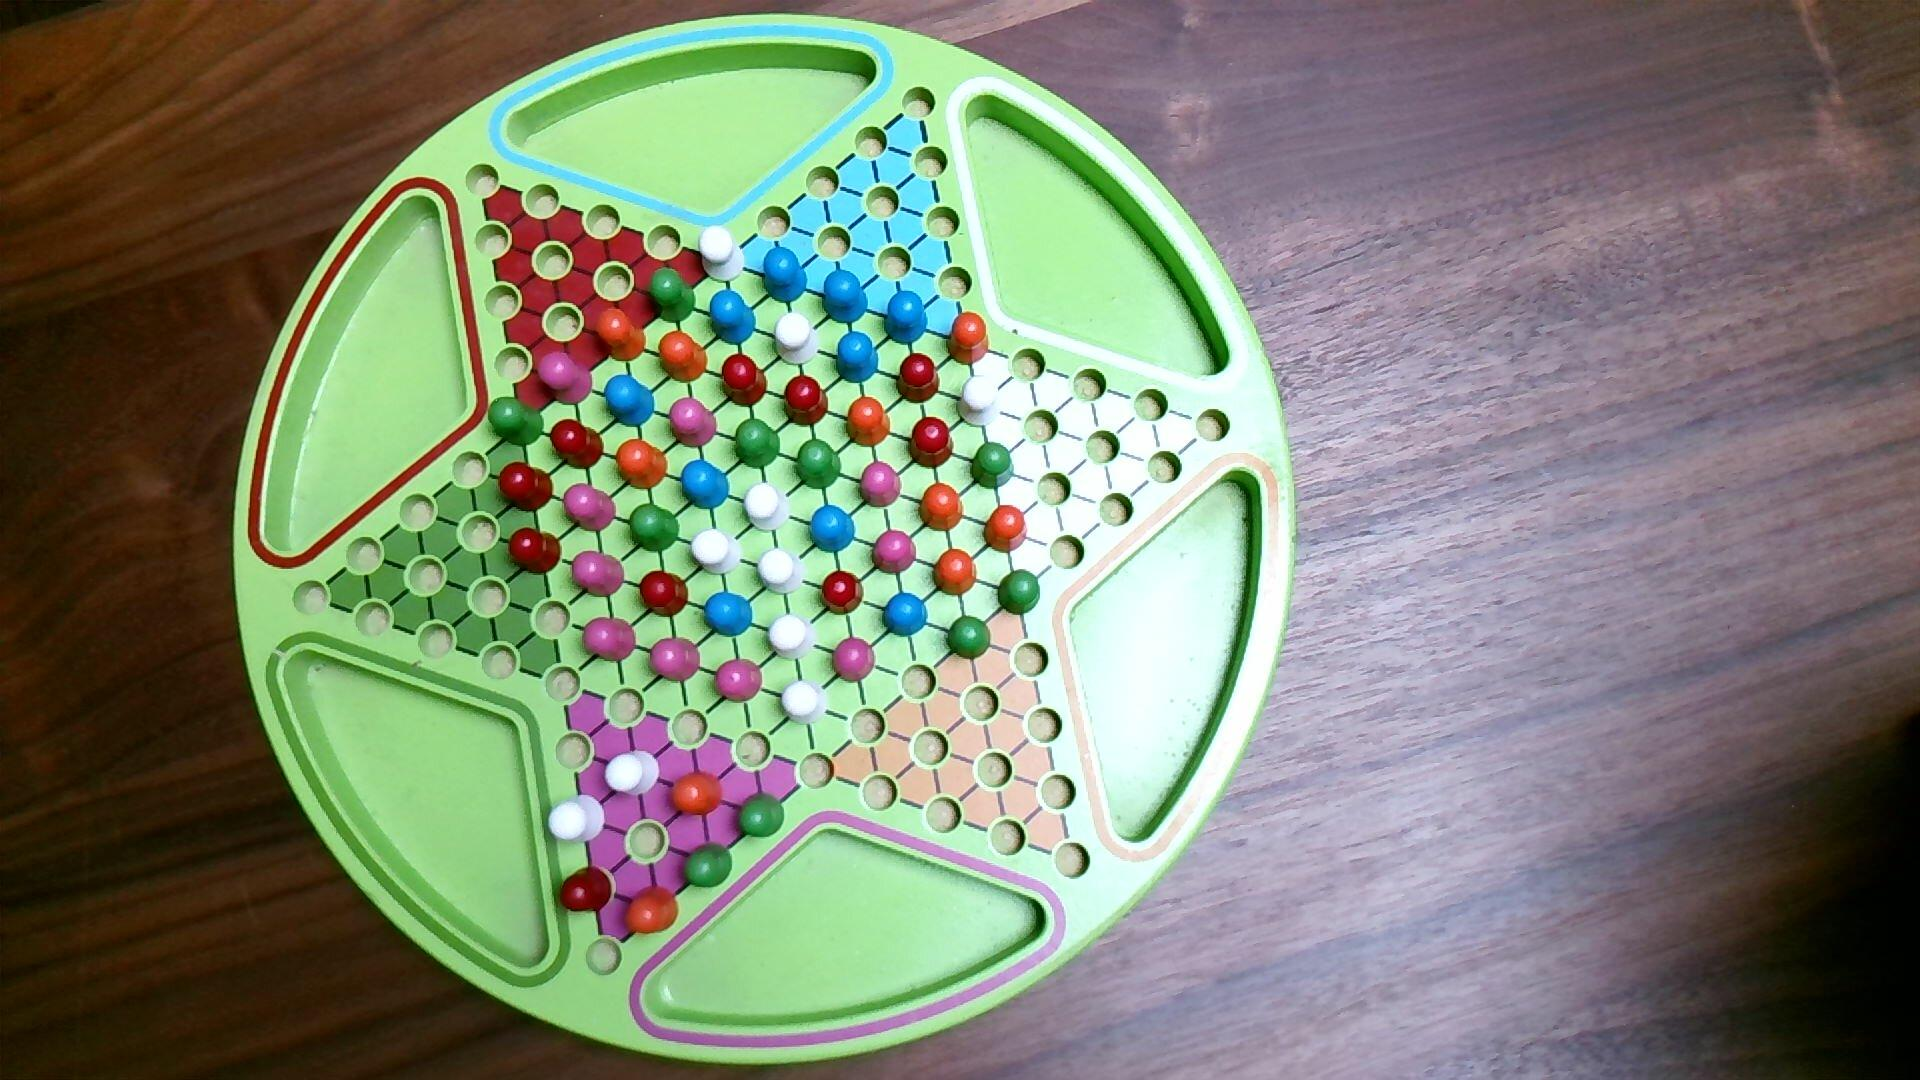B: (601, 373, 657, 431), (708, 287, 758, 348), (678, 458, 732, 513), (822, 268, 872, 327), (761, 247, 810, 306), (702, 589, 756, 641), (833, 328, 881, 386), (806, 504, 857, 556), (882, 290, 930, 347), (882, 589, 930, 640)
G: (487, 396, 547, 450), (646, 264, 699, 326), (626, 501, 680, 555), (794, 436, 843, 493), (737, 789, 787, 843), (735, 415, 782, 472), (682, 843, 736, 891), (971, 440, 1017, 492), (945, 615, 993, 663), (997, 568, 1043, 617)
O: (589, 303, 650, 364), (615, 436, 671, 493), (622, 882, 680, 938), (667, 767, 727, 822), (655, 328, 709, 385), (944, 307, 993, 368), (843, 394, 893, 451), (916, 480, 967, 535), (982, 502, 1030, 556), (932, 547, 980, 599)
R: (497, 459, 556, 516), (556, 862, 616, 916), (549, 418, 607, 472), (506, 526, 564, 578), (907, 415, 957, 472), (721, 352, 770, 409), (640, 568, 691, 621), (782, 373, 829, 429), (894, 352, 942, 406), (820, 568, 866, 617)
R2: (537, 352, 597, 409), (562, 483, 618, 535), (647, 634, 704, 686), (582, 615, 638, 666), (570, 549, 626, 599), (669, 396, 720, 450), (712, 655, 764, 705), (829, 636, 878, 684), (858, 459, 903, 512), (872, 529, 919, 578)
W: (547, 793, 608, 847), (604, 748, 663, 799), (741, 479, 795, 534), (698, 223, 746, 284), (690, 525, 744, 578), (955, 373, 1004, 431), (765, 612, 819, 663), (774, 310, 823, 367), (779, 676, 829, 729), (756, 546, 807, 596)
